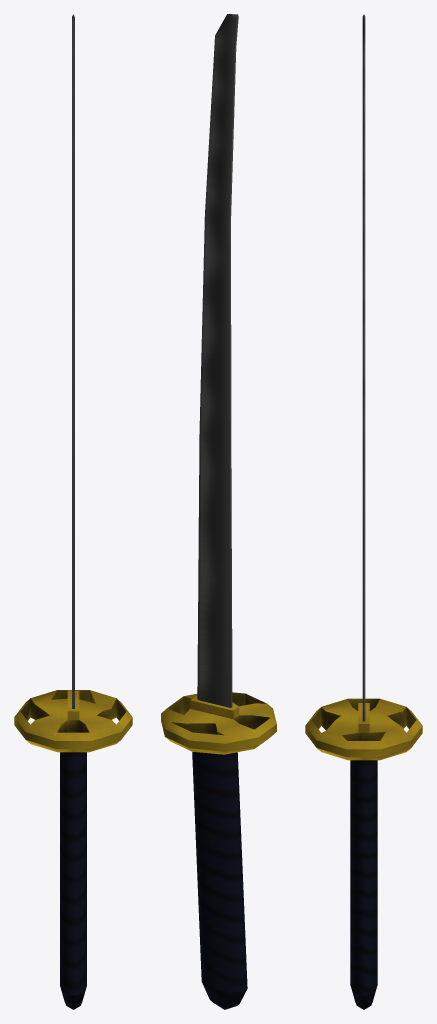
File: Katana_Prop.fbx
3 renders of one model, left to right at view 1: azimuth 90°, elevation 25°; view 2: azimuth 150°, elevation 25°; view 3: azimuth 270°, elevation 25°, orthographic.
Visible parts, largest first — view 1: Katana; view 2: Katana; view 3: Katana.
Part boxes in pixels (x1=…): Katana: x1=14, y1=14, x2=132, y2=1009; Katana: x1=161, y1=14, x2=276, y2=1009; Katana: x1=305, y1=14, x2=422, y2=1009.
Size of the model in its own units: 2.05 by 20.06 by 2.16.
